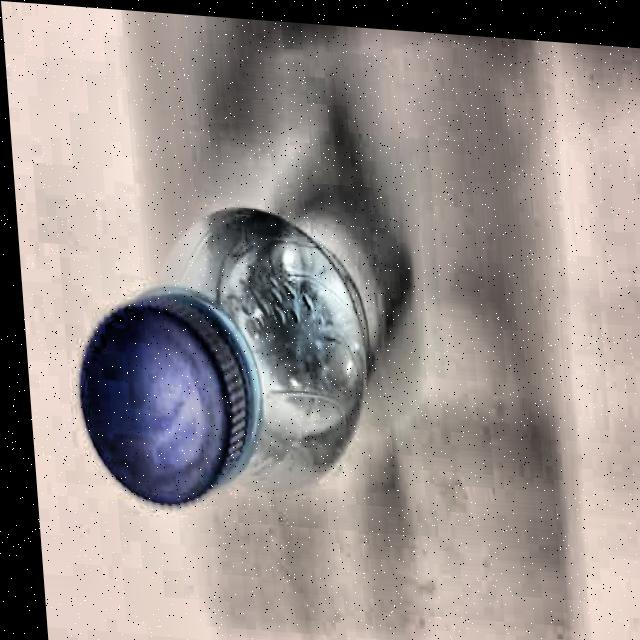plastic: (62, 186, 380, 527)
